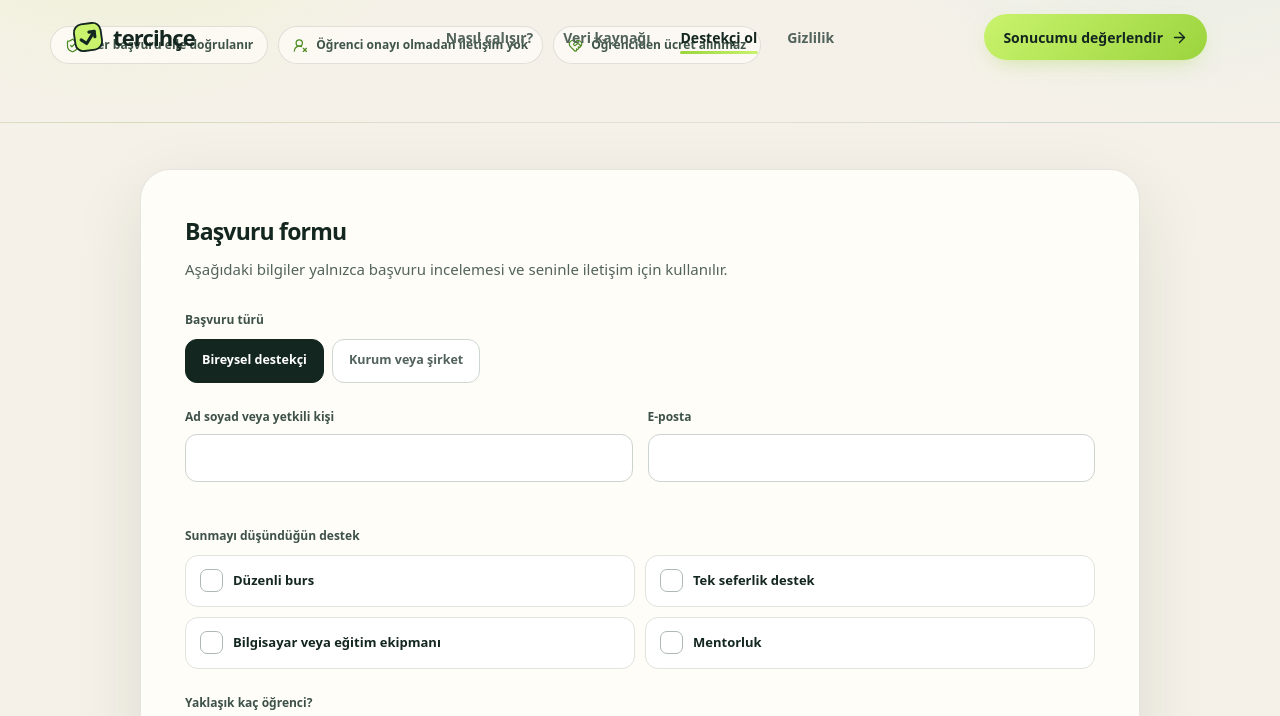
Test: destekçi başvurusu › kurumsal başvuruda kurum adı alanını gösterir
The image size is (1280, 716).
(page scrolled)
Click the button "Kurum veya şirket" at (406, 361), box x1=332 y1=339 x2=480 y2=383
(page scrolled)
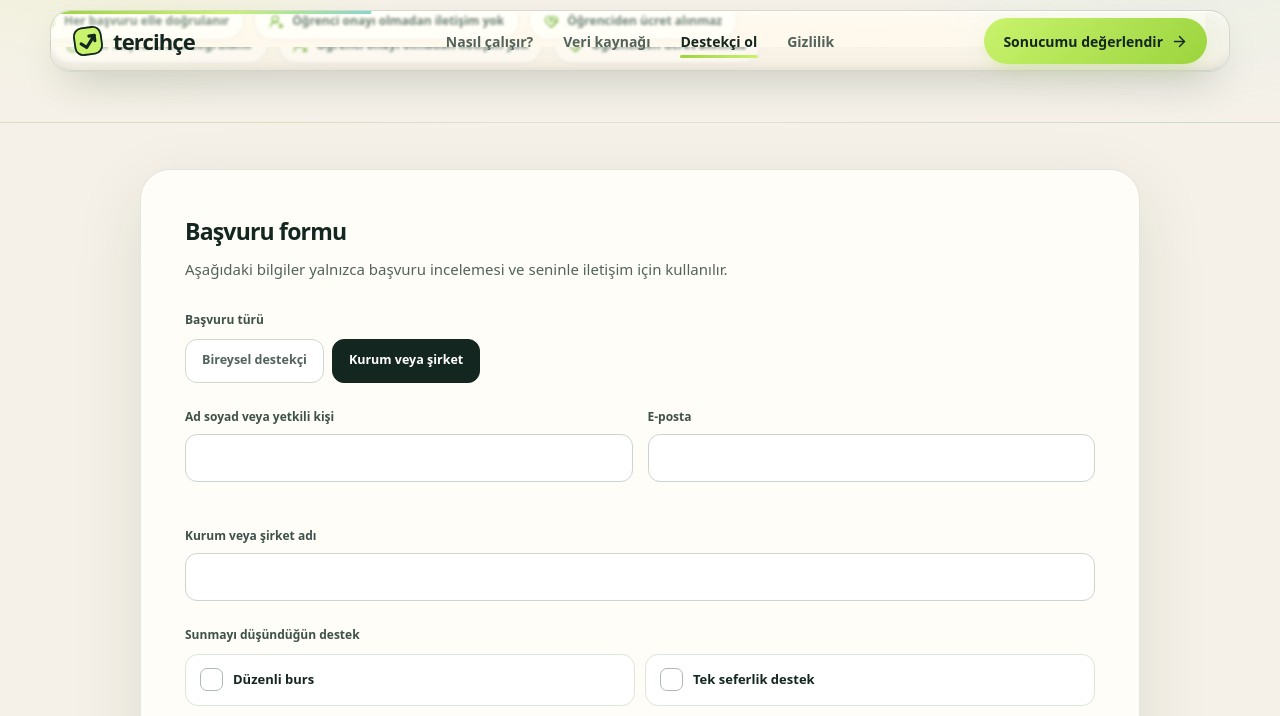
Now the text "Kurum veya şirket adı" is shown, box x1=185 y1=527 x2=316 y2=544
